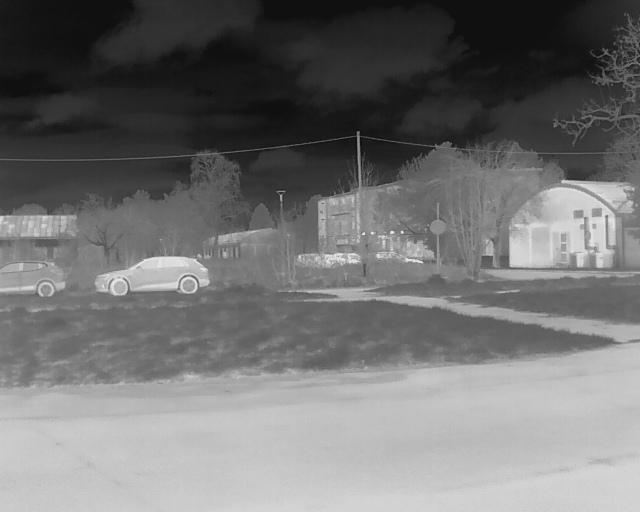drone: (359, 223, 408, 248)
